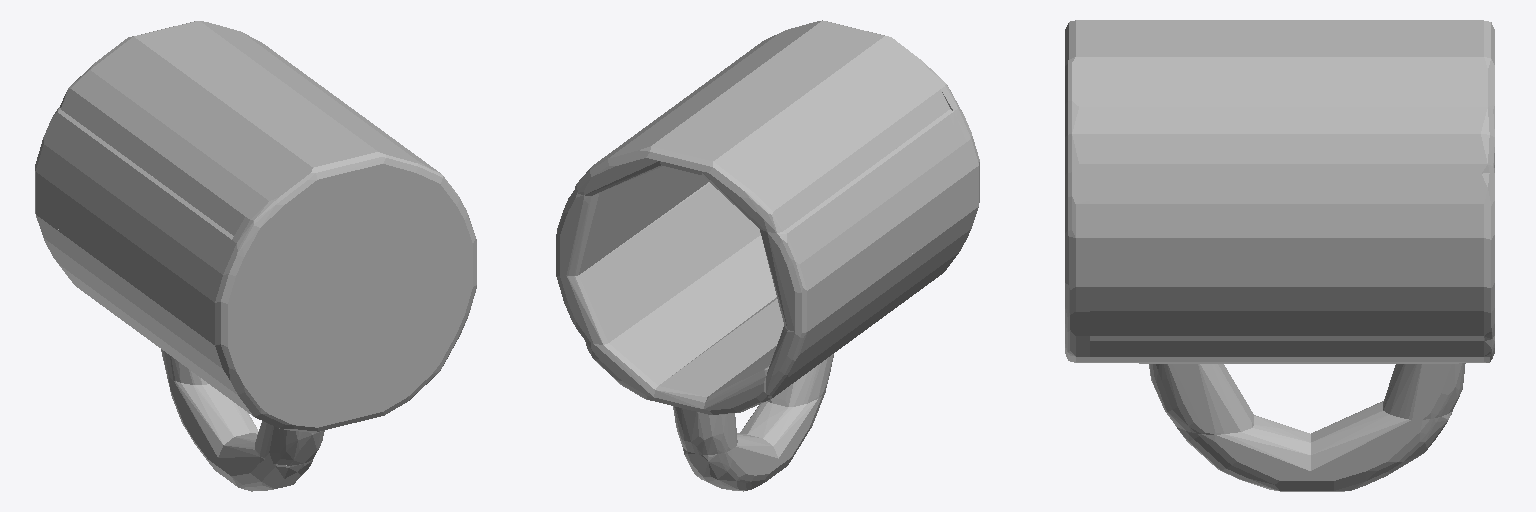
robot.urdf — root:
<?xml version="1.0"?>
<robot name="root">
  <link name="base_link">
    <visual>
      <origin xyz="0 0 0" rpy="0 0 0" />
      <geometry>
        <mesh filename="../meshes/unidex_core_mug-962883677a586bd84a60c1a189046dd1_006.obj" scale="1.0000E+00 1.0000E+00 1.0000E+00" />
      </geometry>
      <material name="">
        <color rgba="7.50E-01 7.50E-01 7.50E-01 1" />
      </material>
    </visual>
    <collision>
      <origin xyz="0 0 0" rpy="0 0 0" />
      <geometry>
        <mesh filename="../meshes/unidex_core_mug-962883677a586bd84a60c1a189046dd1_006.obj" scale="1.0000E+00 1.0000E+00 1.0000E+00" />
      </geometry>
    </collision>
  </link>
</robot>

--- Render facts (derived) ---
The picture shows the robot from 3 angles, left to right: view 1: azimuth 30°, elevation 25°; view 2: azimuth 150°, elevation 25°; view 3: azimuth 270°, elevation 25°; orthographic projection.
Robot: root — 1 links, 0 joints (none); root link base_link; default pose: all joints at 0.
Visible links, largest first — view 1: base_link; view 2: base_link; view 3: base_link.
Boxes of the visible links, x1,y1,x2,y2 form: base_link: (35, 21, 476, 491); base_link: (556, 20, 979, 491); base_link: (1065, 20, 1494, 491).
Bounding box of the posed robot: 0.0627 × 0.0783 × 0.0901 m (x, y, z).
1 mesh visuals loaded from 1 distinct referenced files (1 OBJ).
